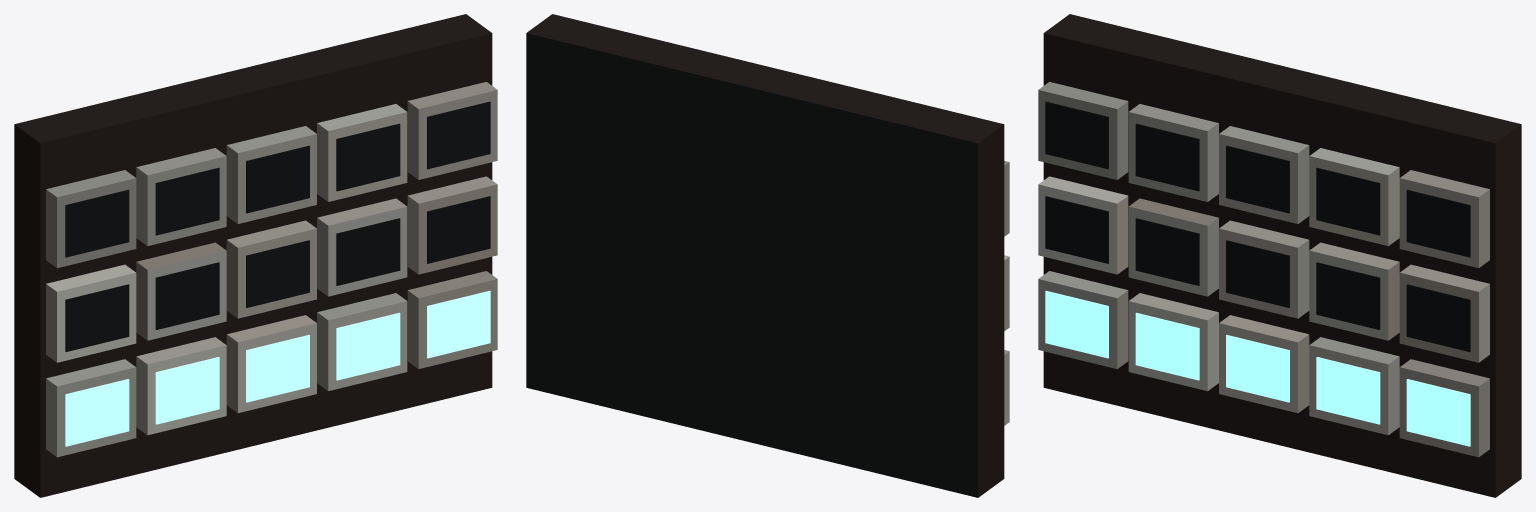
File: monitor_bank.glb
3 views of the same model, side by side, from view 1: azimuth 30°, elevation 25°; view 2: azimuth 150°, elevation 25°; view 3: azimuth 330°, elevation 25° (orthographic).
Parts seen in each view (by area): view 1: Mesh, Dead, Lit; view 2: Mesh; view 3: Mesh, Dead, Lit.
Part boxes in pixels (left/top/right/bottom): Mesh: left=14, top=14, right=497, bottom=497; Dead: left=65, top=101, right=490, bottom=351; Lit: left=65, top=290, right=490, bottom=446; Mesh: left=526, top=14, right=1009, bottom=497; Mesh: left=1038, top=14, right=1521, bottom=497; Dead: left=1045, top=101, right=1470, bottom=351; Lit: left=1045, top=290, right=1470, bottom=446.
Bounding box in the file's own units: 4 × 3 × 0.585.
